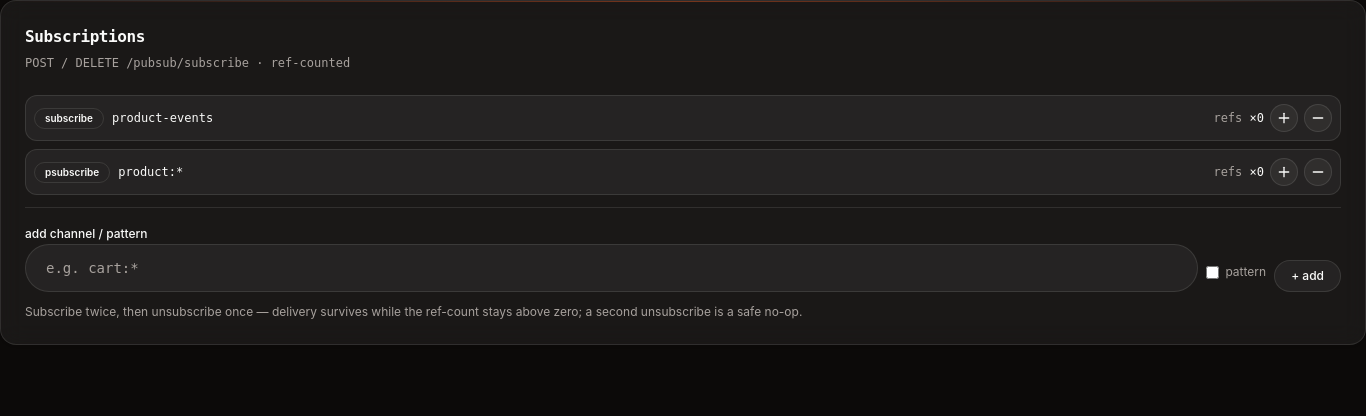
Test case: SubscriptionManager › adds a pattern subscription via the checkbox and resets the checkbox after
Click the checkbox at x=1213, y=272, box [1206, 266, 1219, 278]
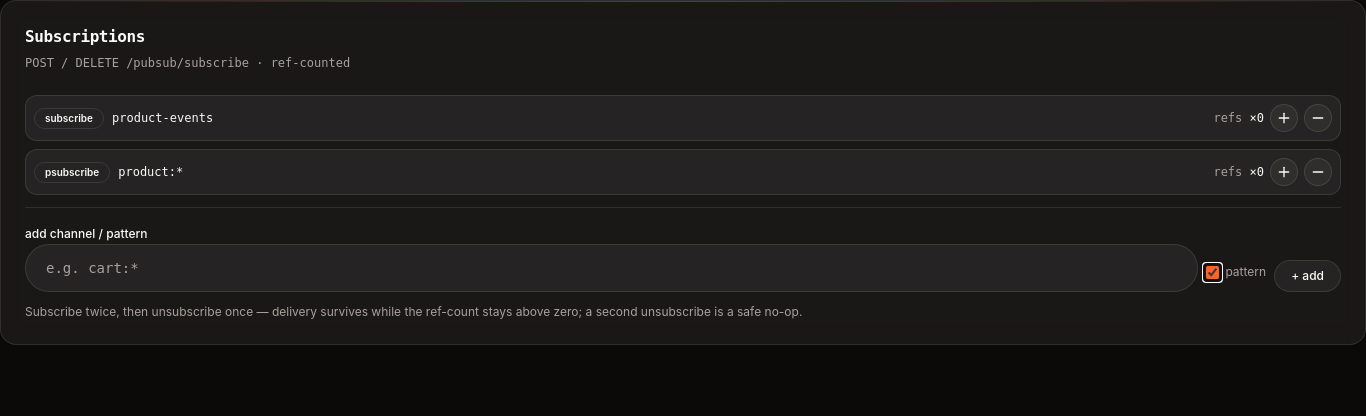
Result: the checkbox is checked at [1206, 266, 1219, 278]
Type "cart:*" into the field labelled "add channel / pattern" at x=612, y=268, box [25, 244, 1198, 292]
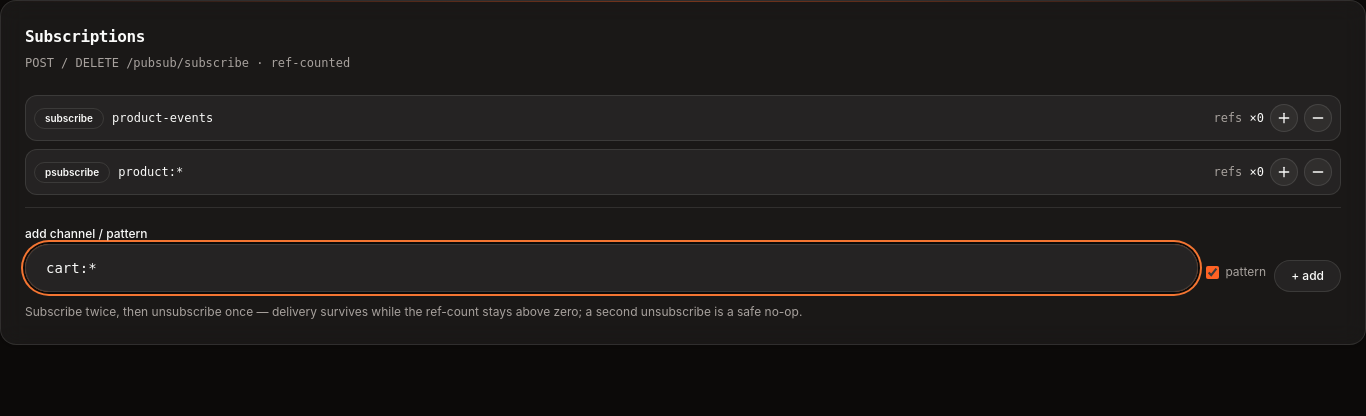
Click the button "+ add" at x=1308, y=276, box [1274, 260, 1341, 292]
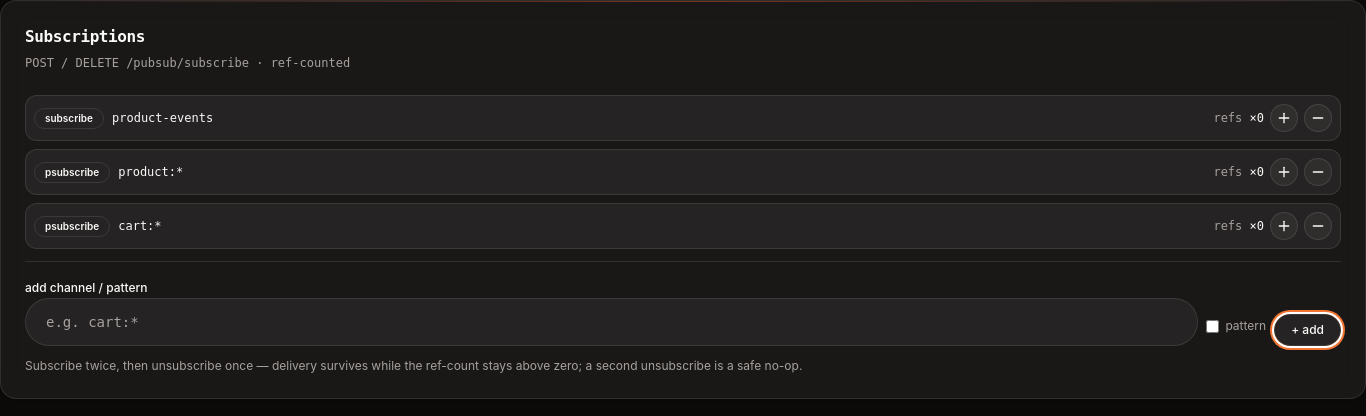
Result: the checkbox is not checked at [1206, 320, 1219, 332]
Result: the text "cart:*" is shown at [118, 218, 162, 234]
Result: the text "psubscribe" is shown 2 times at [34, 162, 110, 182]; [34, 216, 110, 236]
